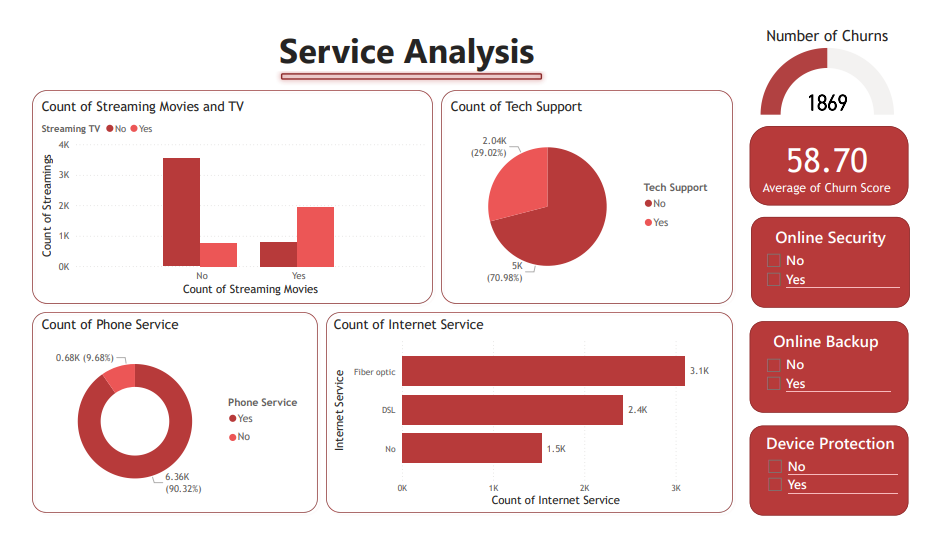

Layout of this report page (visuals, bound fields, positions):
{"tool":"powerbi","page":{"name":"Services","canvas":[1280,720],"ordinal":2},"visuals":[{"type":"shape","box":[1038.6,282.9,224.3,128.6],"z":0},{"type":"shape","box":[1037.1,430,224.3,128.6],"z":1000},{"type":"shape","box":[1036.9,155.2,224.1,111.3],"z":2000},{"type":"shape","box":[1037.1,577.1,224.3,127.1],"z":3000},{"type":"shape","box":[368.6,73.4,383,24.5],"z":4000},{"type":"textbox","box":[368.7,8.8,383,76.3],"z":5000},{"type":"shape","box":[18.6,411.4,415.7,294.3],"z":6000},{"type":"shape","box":[434.3,411.4,584.3,294.3],"z":7000},{"type":"shape","box":[595.7,98.6,422.9,312.9],"z":8000},{"type":"shape","box":[18.6,98.6,577.1,312.9],"z":9000},{"type":"slicer","title":"Online Security","fields":{"Values":["Cleaned_Vis.Online Security"]},"box":[1048.6,295.7,205.7,102.9],"z":10000},{"type":"gauge","title":"Number of Churns","fields":{"Y":["CountNonNull(Cleaned_Vis.Churn Label)"]},"box":[1031,14.6,231.4,128.9],"z":11000},{"type":"card","fields":{"Values":["Avg(Cleaned_Vis.Churn Score)"]},"box":[1050.1,155.2,191.9,111.3],"z":12000},{"type":"pieChart","title":"Count of Tech Support","fields":{"Category":["Cleaned_Vis.Tech Support"],"Y":["CountNonNull(Cleaned_Vis.Tech Support)"]},"box":[611.4,115.7,390,282.9],"z":13000},{"type":"donutChart","title":"Count of Phone Service ","fields":{"Category":["Cleaned_Vis.Phone Service"],"Y":["CountNonNull(Cleaned_Vis.Phone Service)"]},"box":[34.3,422.9,387.1,274.3],"z":14000},{"type":"barChart","title":"Count of Internet Service","fields":{"Category":["Cleaned_Vis.Internet Service"],"Y":["CountNonNull(Cleaned_Vis.Internet Service)"]},"box":[445.7,422.9,555.7,274.3],"z":15000},{"type":"clusteredColumnChart","title":"Count of Streaming Movies and TV","fields":{"Category":["Cleaned_Vis.Streaming Movies"],"Y":["CountNonNull(Cleaned_Vis.Streaming Movies)"],"Series":["Cleaned_Vis.Streaming TV"]},"box":[34.3,115.7,550,282.9],"z":16000},{"type":"slicer","title":"Online Backup","fields":{"Values":["Cleaned_Vis.Online Backup"]},"box":[1048.6,442.9,192.9,134.3],"z":17000},{"type":"slicer","title":"Device Protection","fields":{"Values":["Cleaned_Vis.Device Protection"]},"box":[1051.4,585.7,200,134.3],"z":18000}]}

Visuals, with their boxes in screenshot pixels (x1, y1, x2, y2), scaled from the page's 1280x720 canvas onto the 937x543 screenshot:
shape: 760,213,924,310
shape: 759,324,923,421
shape: 759,117,923,201
shape: 759,435,923,531
shape: 270,55,550,74
textbox: 270,7,550,64
shape: 14,310,318,532
shape: 318,310,746,532
shape: 436,74,746,310
shape: 14,74,436,310
"Online Security" slicer: 768,223,918,301
"Number of Churns" gauge: 755,11,924,108
card - Avg(Cleaned_Vis.Churn Score): 769,117,909,201
"Count of Tech Support" pieChart: 448,87,733,301
"Count of Phone Service " donutChart: 25,319,308,526
"Count of Internet Service" barChart: 326,319,733,526
"Count of Streaming Movies and TV" clusteredColumnChart: 25,87,428,301
"Online Backup" slicer: 768,334,909,435
"Device Protection" slicer: 770,442,916,542
